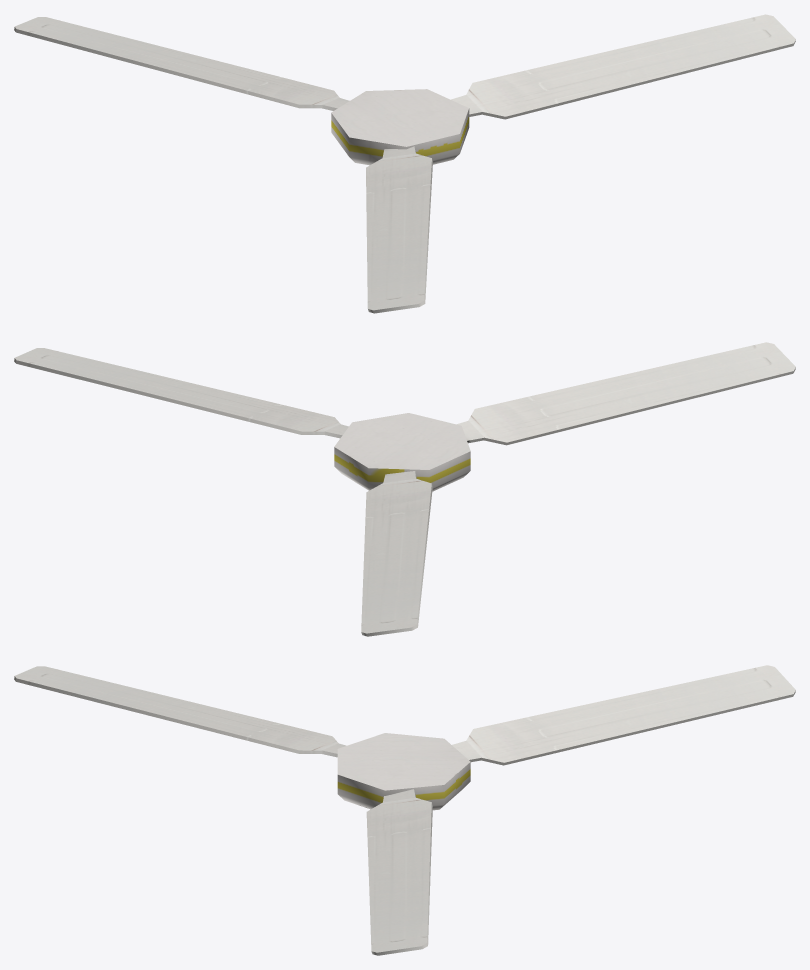
The model's file is Ceiling_Fan_Blades_01-col.glb.
3 views of the same model, one above another, from view 1: azimuth 30°, elevation 25°; view 2: azimuth 150°, elevation 25°; view 3: azimuth 270°, elevation 25° (orthographic).
Parts seen in each view (by area): view 1: Ceiling_Fan_Blades_01-col; view 2: Ceiling_Fan_Blades_01-col; view 3: Ceiling_Fan_Blades_01-col.
Boxes of the visible parts, x1,y1,x2,y2 form: Ceiling_Fan_Blades_01-col: [14, 14, 795, 313]; Ceiling_Fan_Blades_01-col: [14, 342, 795, 636]; Ceiling_Fan_Blades_01-col: [14, 665, 795, 955].
Size of the model in its own units: 2.21 by 0.1031 by 2.55.
Materials: 1 (1 with a texture image).
